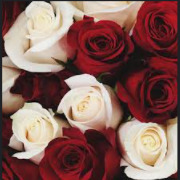RedRose: (61, 9, 132, 79), (36, 128, 120, 179), (121, 58, 179, 123), (125, 2, 179, 59)
